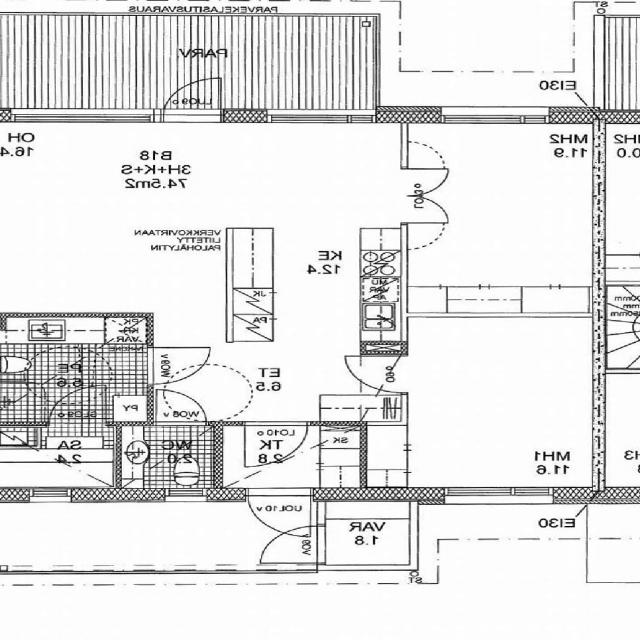door: (249, 487, 311, 542), (165, 72, 221, 122), (246, 422, 308, 466), (262, 526, 326, 563), (148, 347, 212, 384), (52, 384, 107, 426), (346, 356, 408, 392), (158, 389, 207, 426), (401, 196, 450, 223), (401, 169, 450, 196)
